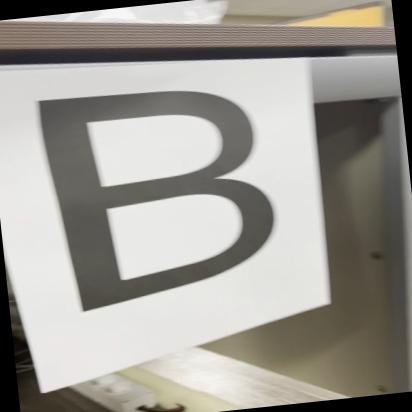seat: (8, 58, 327, 319)
